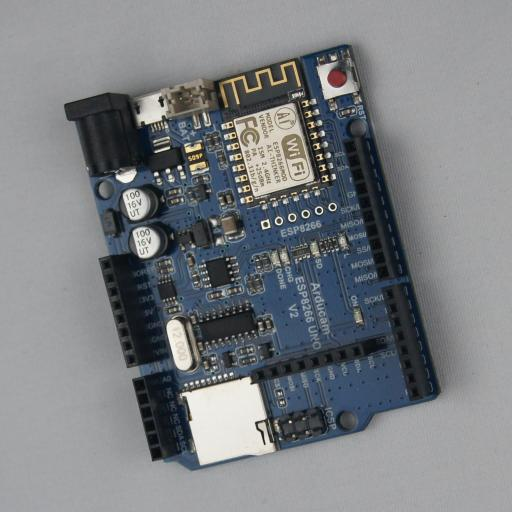Arduino Uno Camera Shield: (64, 44, 445, 471)
